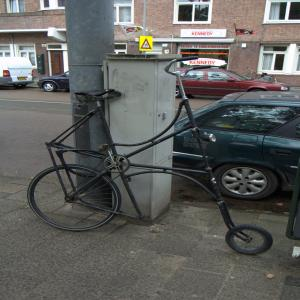Vehicle-registration-plate: (18, 78, 28, 81)
